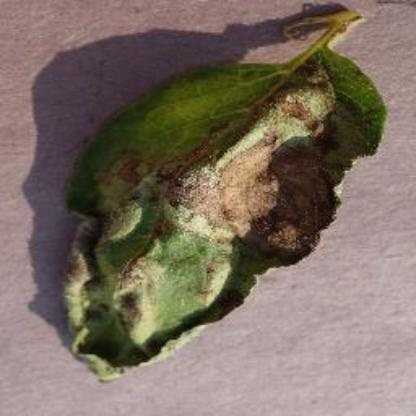Late-Blight: (52, 10, 394, 386)
